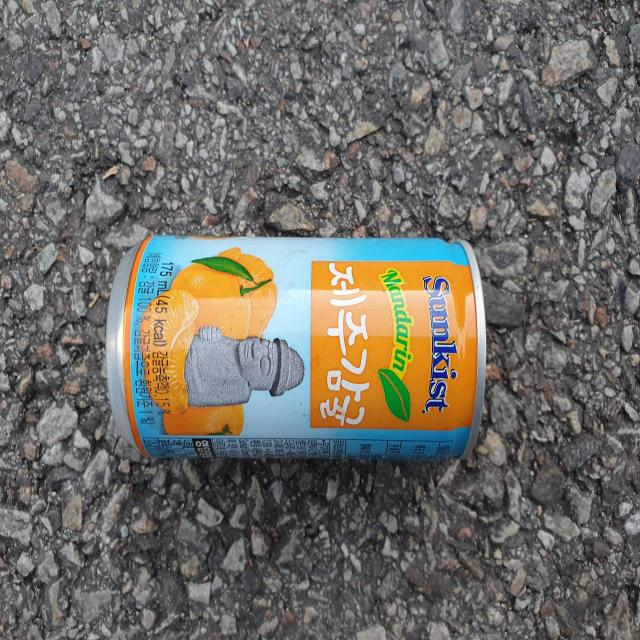can: (105, 236, 486, 460)
